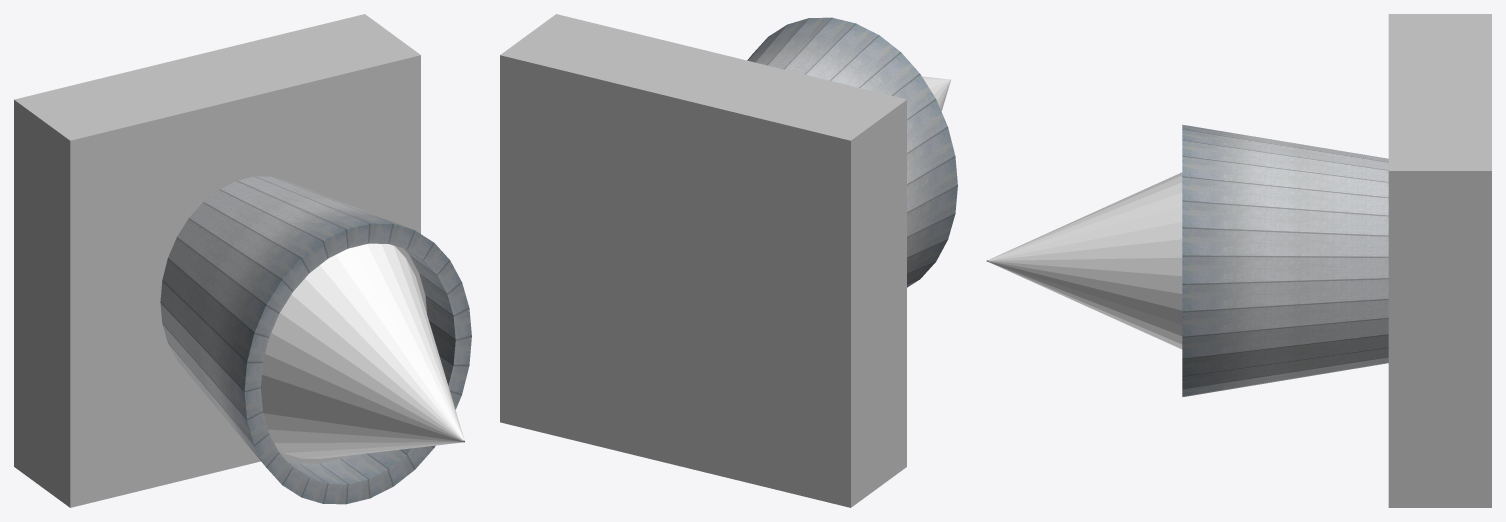
Rendered from propeller.obj.
3 renders of one model, left to right at view 1: azimuth 30°, elevation 25°; view 2: azimuth 150°, elevation 25°; view 3: azimuth 270°, elevation 25°, orthographic. The views are drawn at different scales.
Parts seen in each view (by area): view 1: default, flame, lid; view 2: default; view 3: default, flame.
Part boxes in pixels (x1,y1,x2,y2): default: (14,14,471,507); flame: (260,243,464,458); lid: (278,246,426,463); default: (500,14,957,507); default: (1182,14,1491,507); flame: (986,172,1182,349).
Size of the model in its own units: 3.6 by 3.6 by 4.9.
